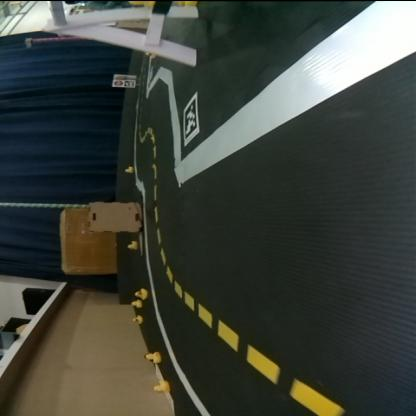Duckie: (144, 352, 160, 362), (153, 382, 169, 392), (135, 288, 147, 298), (126, 241, 136, 249), (131, 300, 141, 308), (132, 316, 142, 324), (144, 52, 154, 58), (124, 166, 132, 172)
QR code: (182, 92, 198, 146), (124, 80, 134, 86)
Stop sign: (112, 80, 122, 86)
